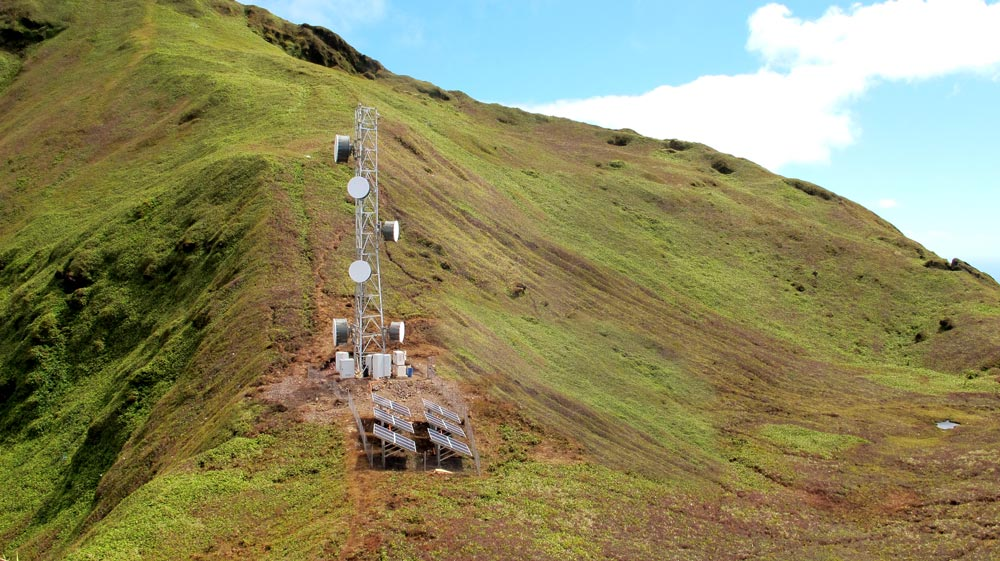ba: (329, 253, 377, 294), (321, 317, 361, 352), (376, 208, 407, 252), (379, 315, 407, 349), (329, 127, 350, 171), (344, 173, 372, 206)
